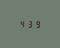four: (18, 19, 24, 27)
nine: (33, 20, 39, 28)
three: (26, 19, 32, 28)
